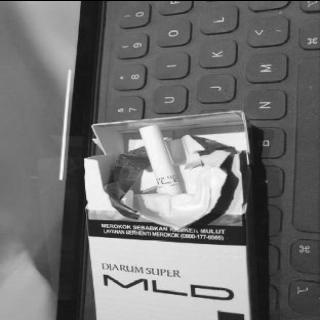objects: (86, 110, 254, 320)
